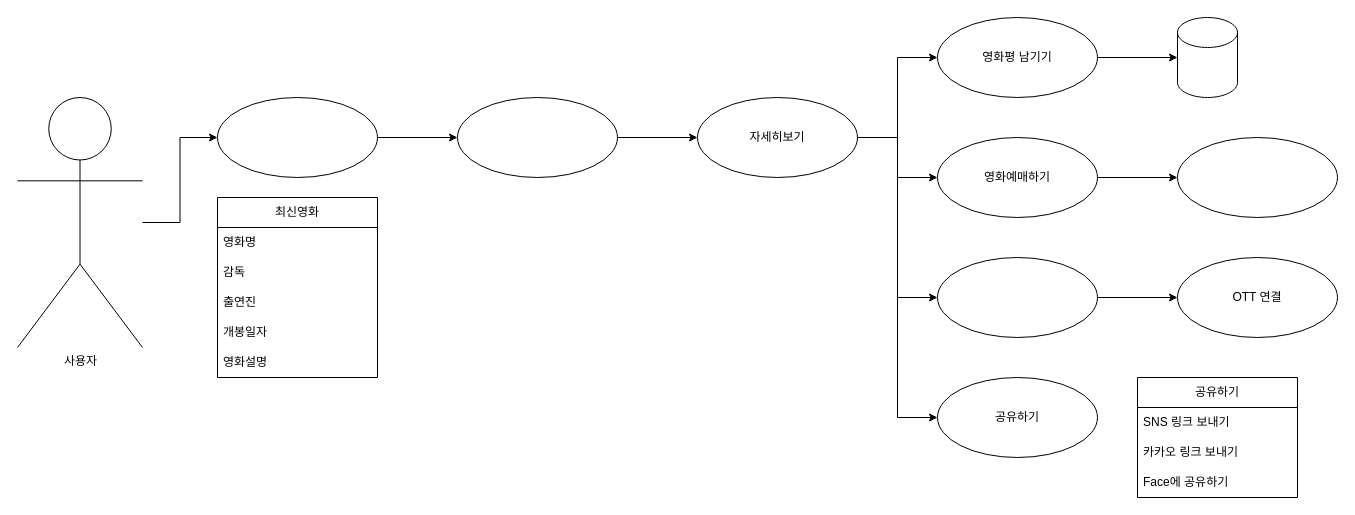
The diagram is 1355 pixels wide and 515 high, and some of its shapes have lost their labels. Here are the shapes that lost their labels. From the top down, the centre of each, then its label:
At point (297, 137): "시작화면".
At point (537, 137): "영화검색".
At point (1257, 177): "제휴영화관 링크".
At point (1017, 297): "OTT 링크 바로가기".
